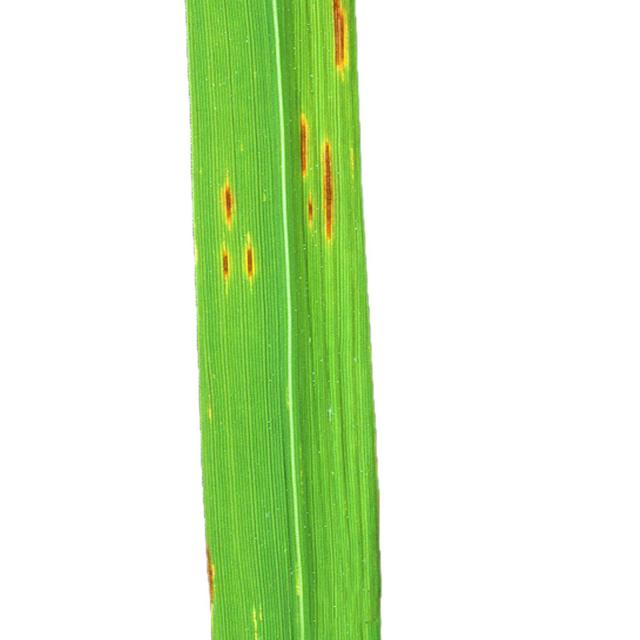Narrow brown: (154, 1, 424, 640)
